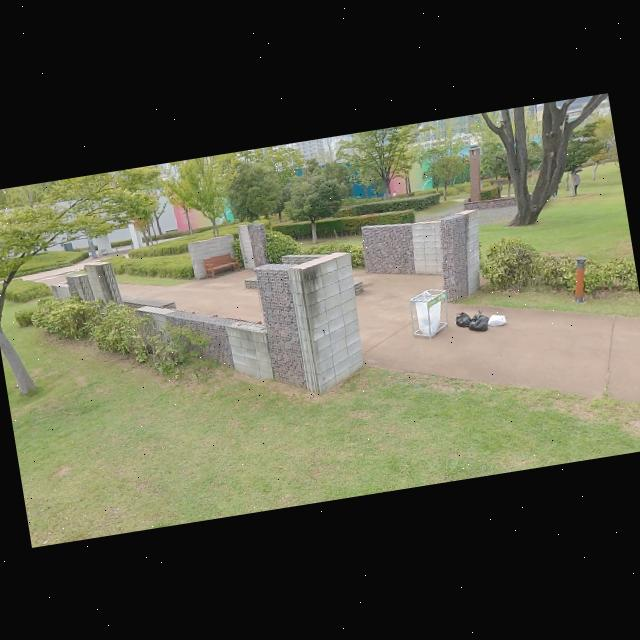trash: (451, 306, 474, 328), (484, 310, 508, 331), (466, 313, 488, 334), (470, 306, 490, 328)
